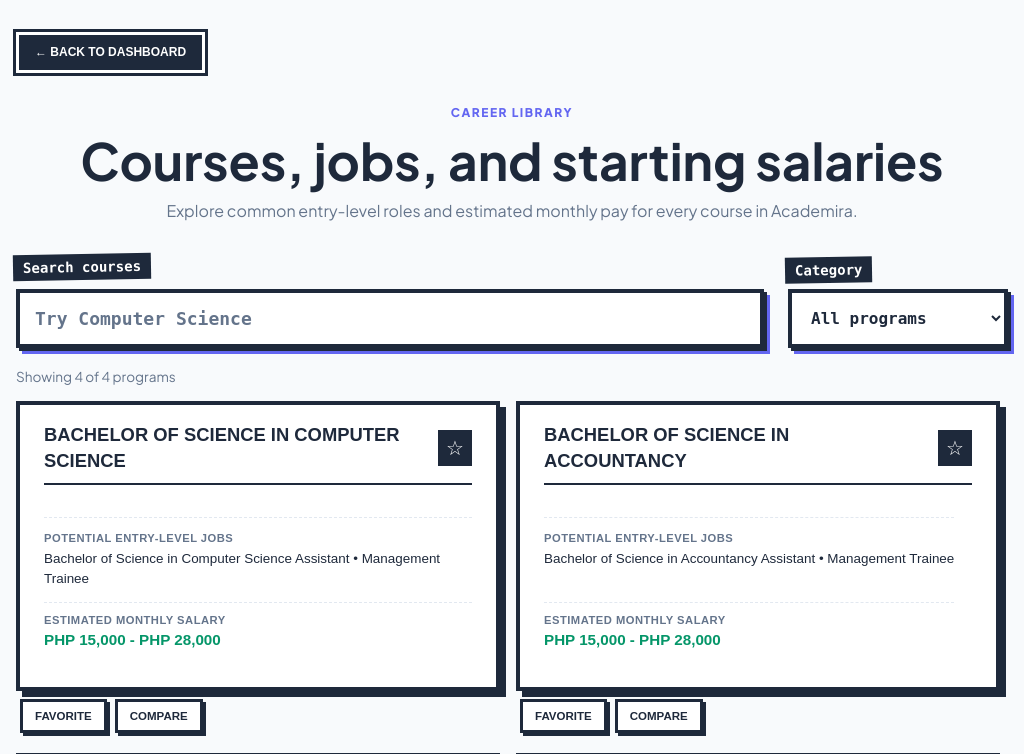
Test: CareerLibrary › filters programs using the search input
Type "computer" into the field with placeholder "Try Computer Science" at [390, 318], box [16,289,764,348]
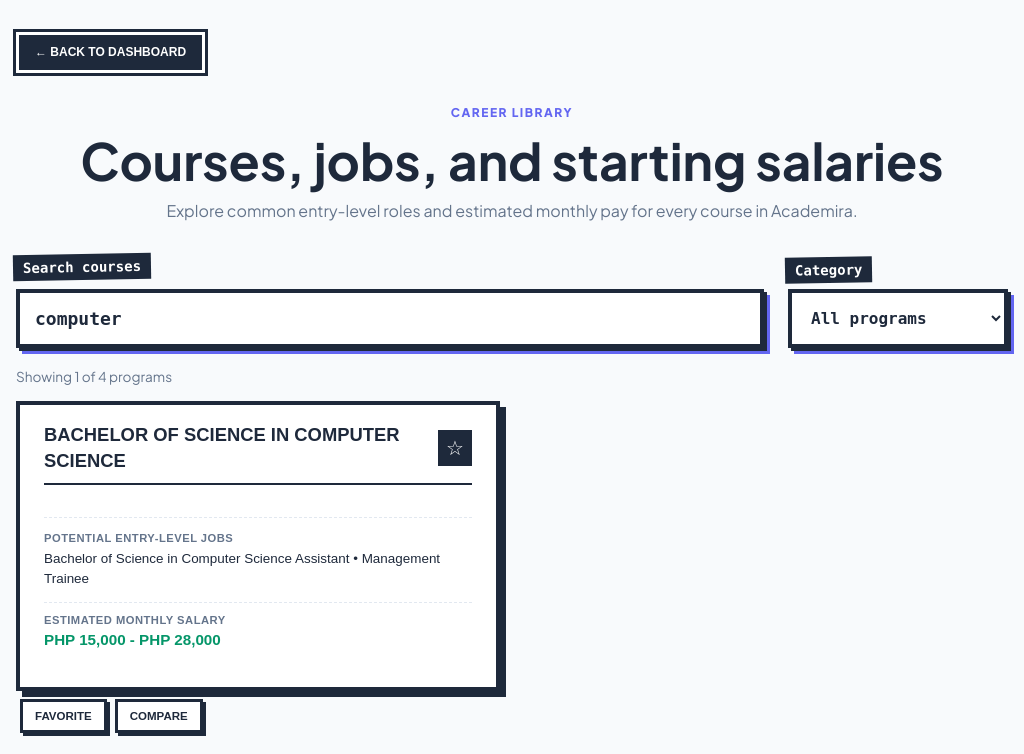
Check: the heading "Bachelor of Science in Computer Science" is shown, box [44,422,422,474]
Check: the button "Bachelor of Science in Accountancy" is gone
Check: the text "Showing 1 of 4 programs" is shown, box [16,368,172,385]
